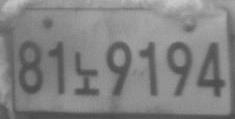1: (136, 41, 164, 97), (46, 39, 71, 94)
4: (195, 41, 226, 97)
8: (17, 39, 44, 94)
9: (165, 40, 193, 96), (105, 39, 132, 97)
노: (73, 51, 100, 95)
